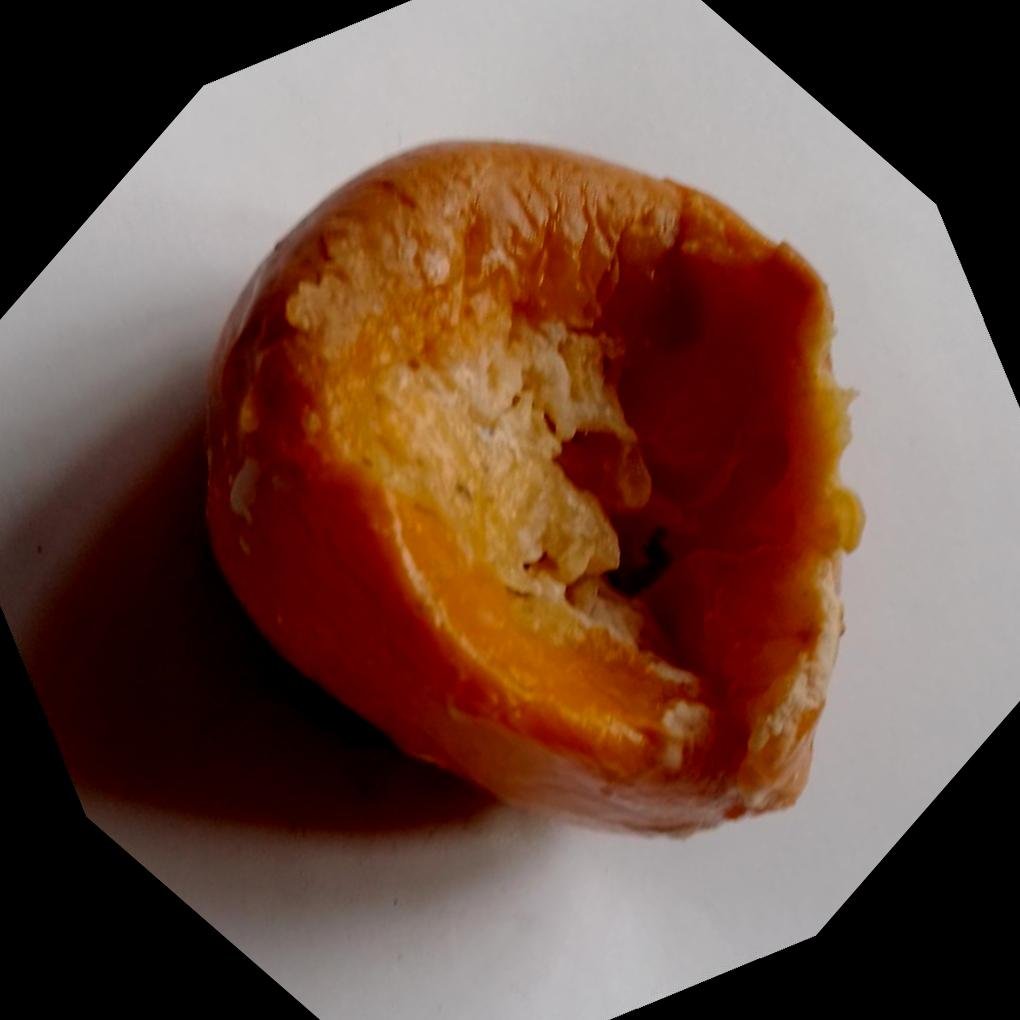FreshOrange: (198, 139, 865, 842)
